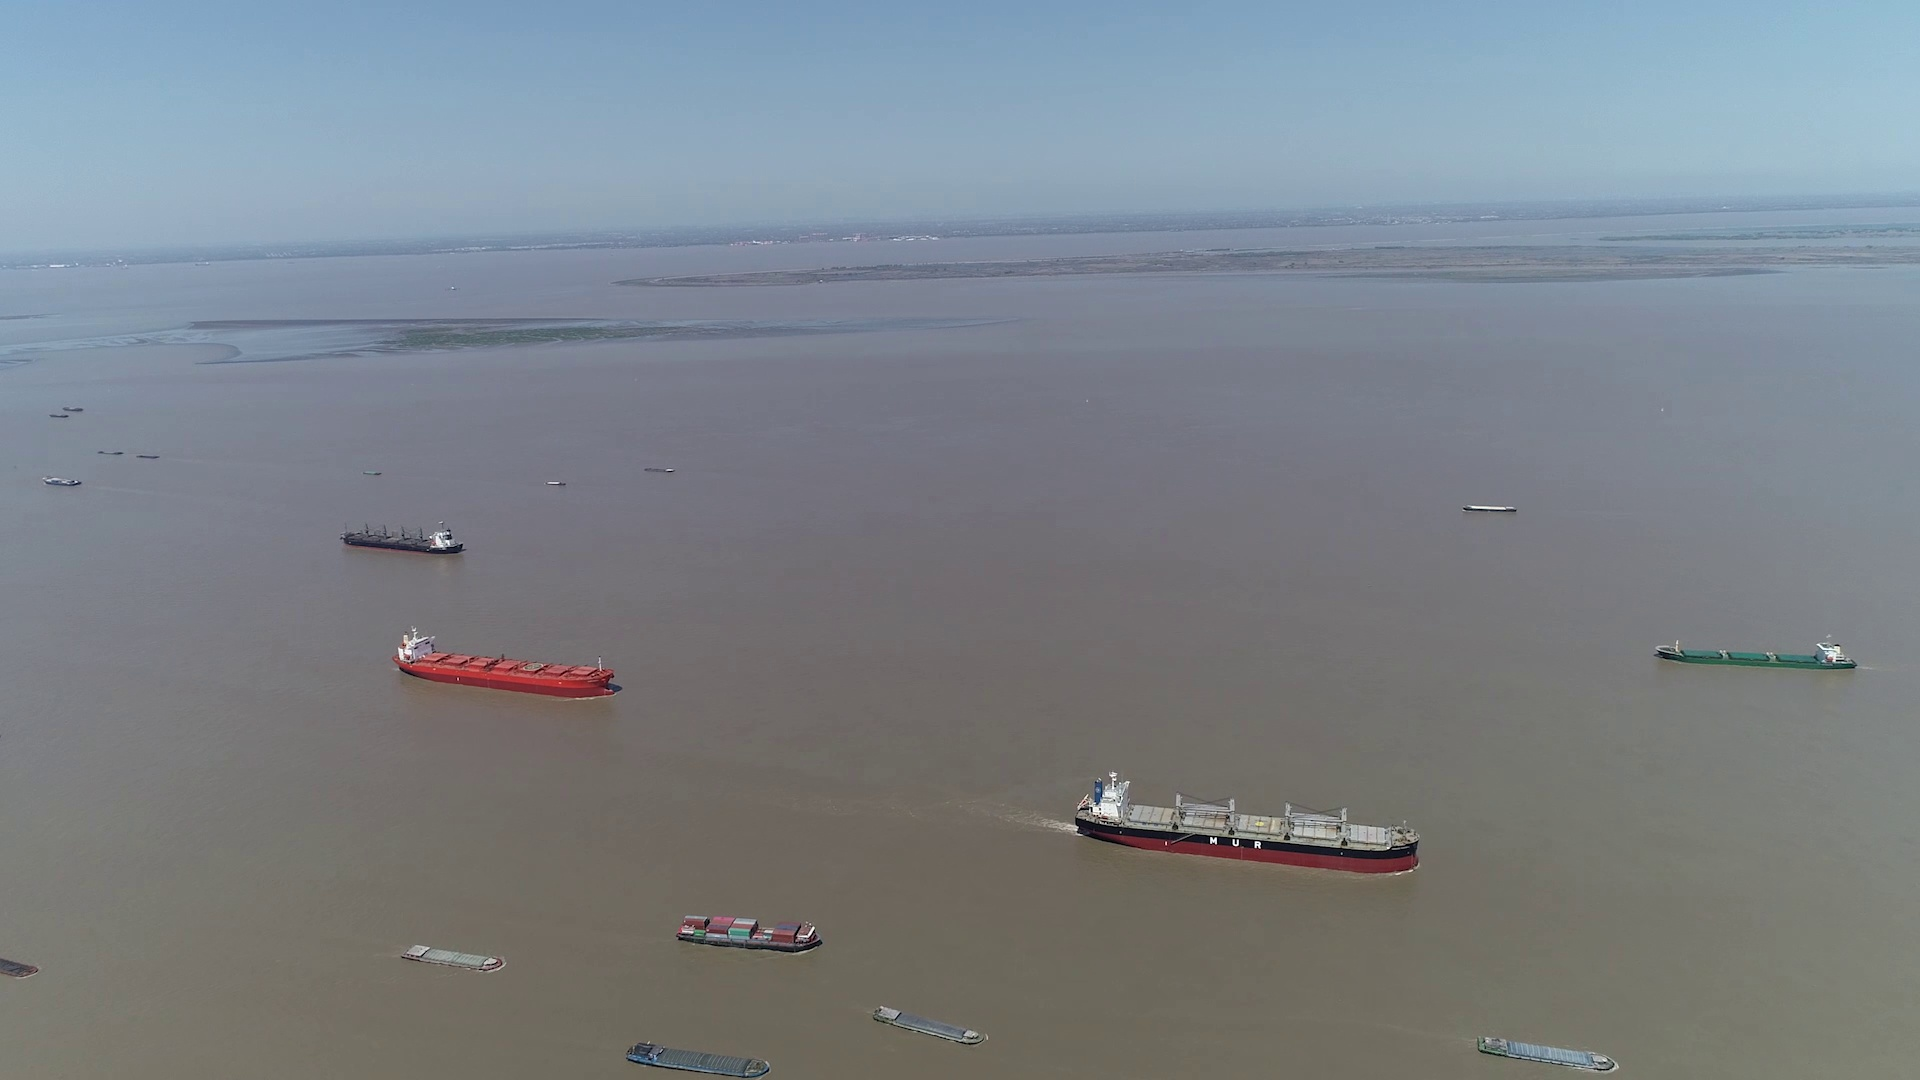ship: (1072, 773, 1423, 873), (394, 629, 613, 698), (1656, 637, 1857, 669), (676, 915, 822, 953), (625, 1042, 771, 1079), (1477, 1036, 1618, 1073), (872, 1005, 985, 1048), (340, 520, 463, 554), (401, 942, 502, 971), (0, 952, 36, 978), (1462, 504, 1519, 514), (44, 473, 82, 487)
